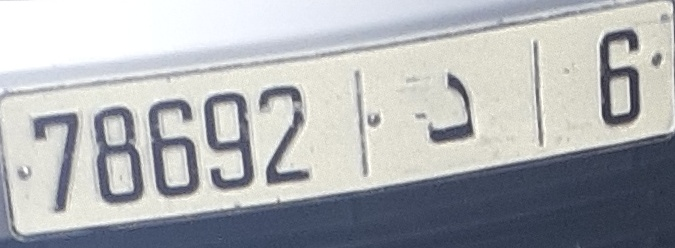2: (258, 85, 315, 187)
6: (148, 97, 203, 201), (596, 27, 644, 130)
7: (29, 111, 84, 219)
8: (94, 104, 147, 206)
9: (203, 91, 259, 190)
d: (419, 63, 480, 148)
